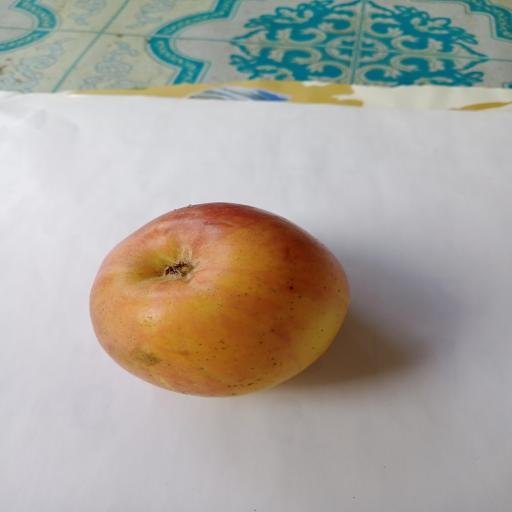apple-ripe: (74, 190, 372, 409)
